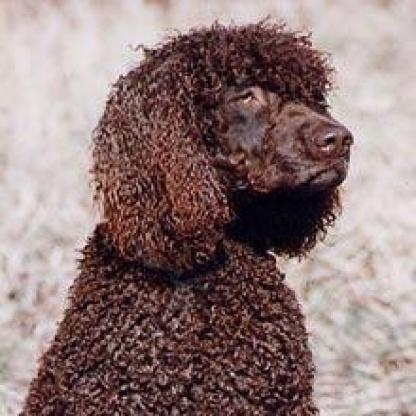Irish_water_spaniel: (26, 11, 354, 413)
